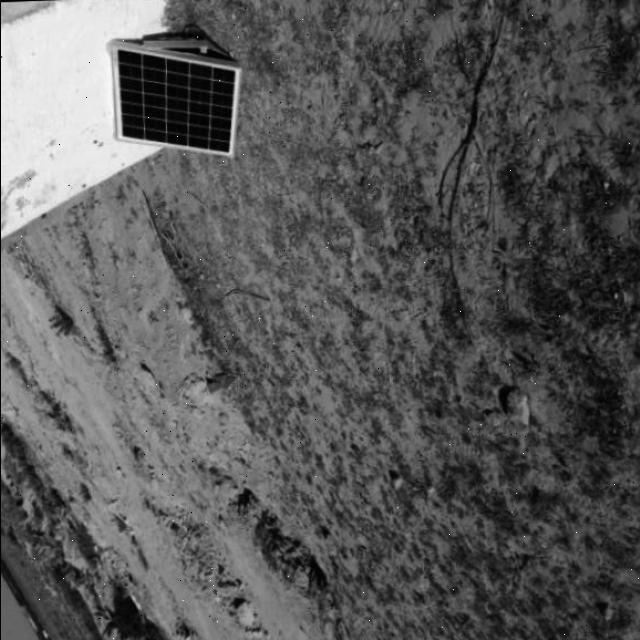Normal Solar Panel: (108, 38, 244, 156)
